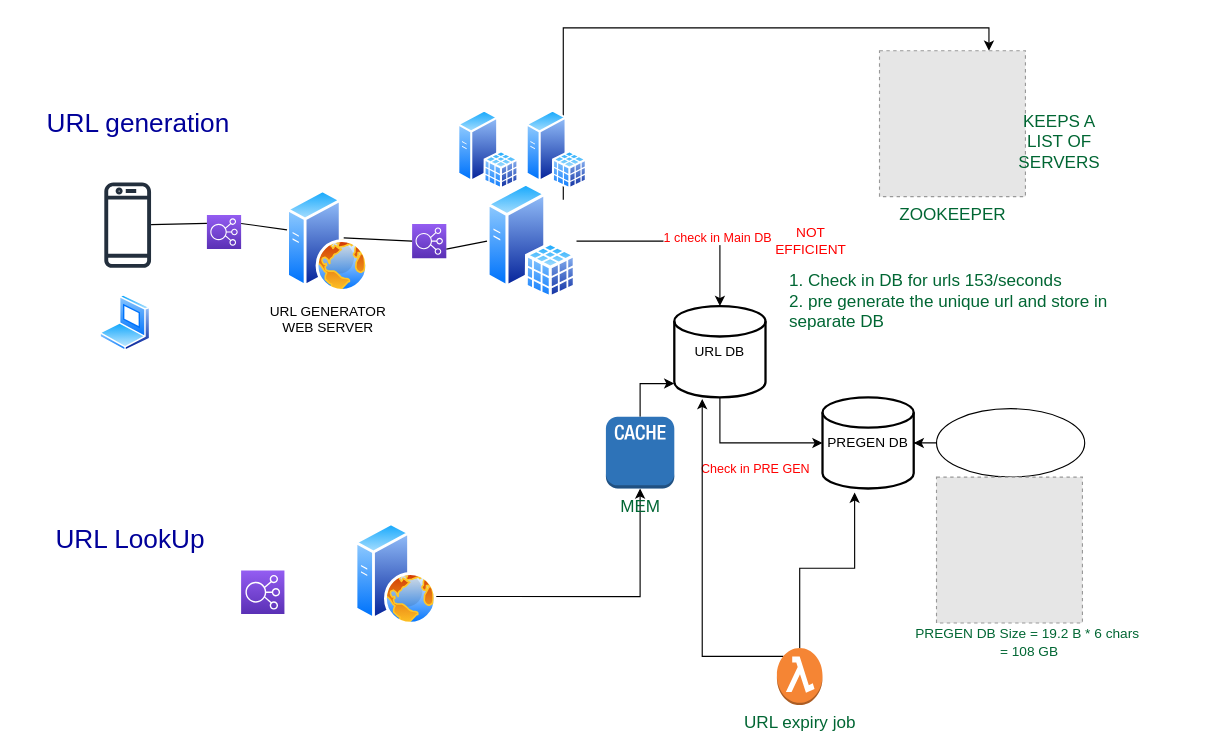
Some shapes in this 1229 by 754 pixel diagram are drawn without their labels. Grey dashed boxes stand in for pictures. The centre of each missing label's shape, as x and y in pixels:
PREGEN GENERATION SERVICE: the point at 1010,442
URL GERN BACKEND SERVER: the point at 531,240
URL LOOK UP WEB SERVER: the point at 396,573
